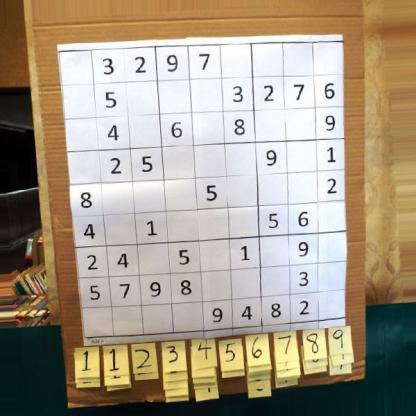sudoku: (57, 38, 348, 340)
